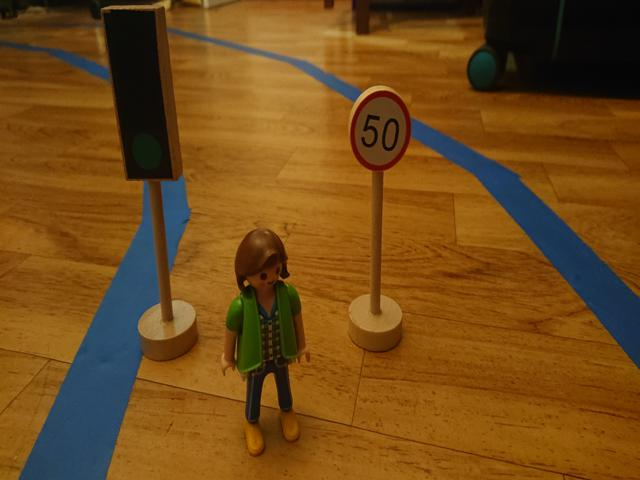50 speed sign: (347, 91, 412, 173)
green light: (112, 17, 168, 180)
person: (221, 227, 313, 455)
